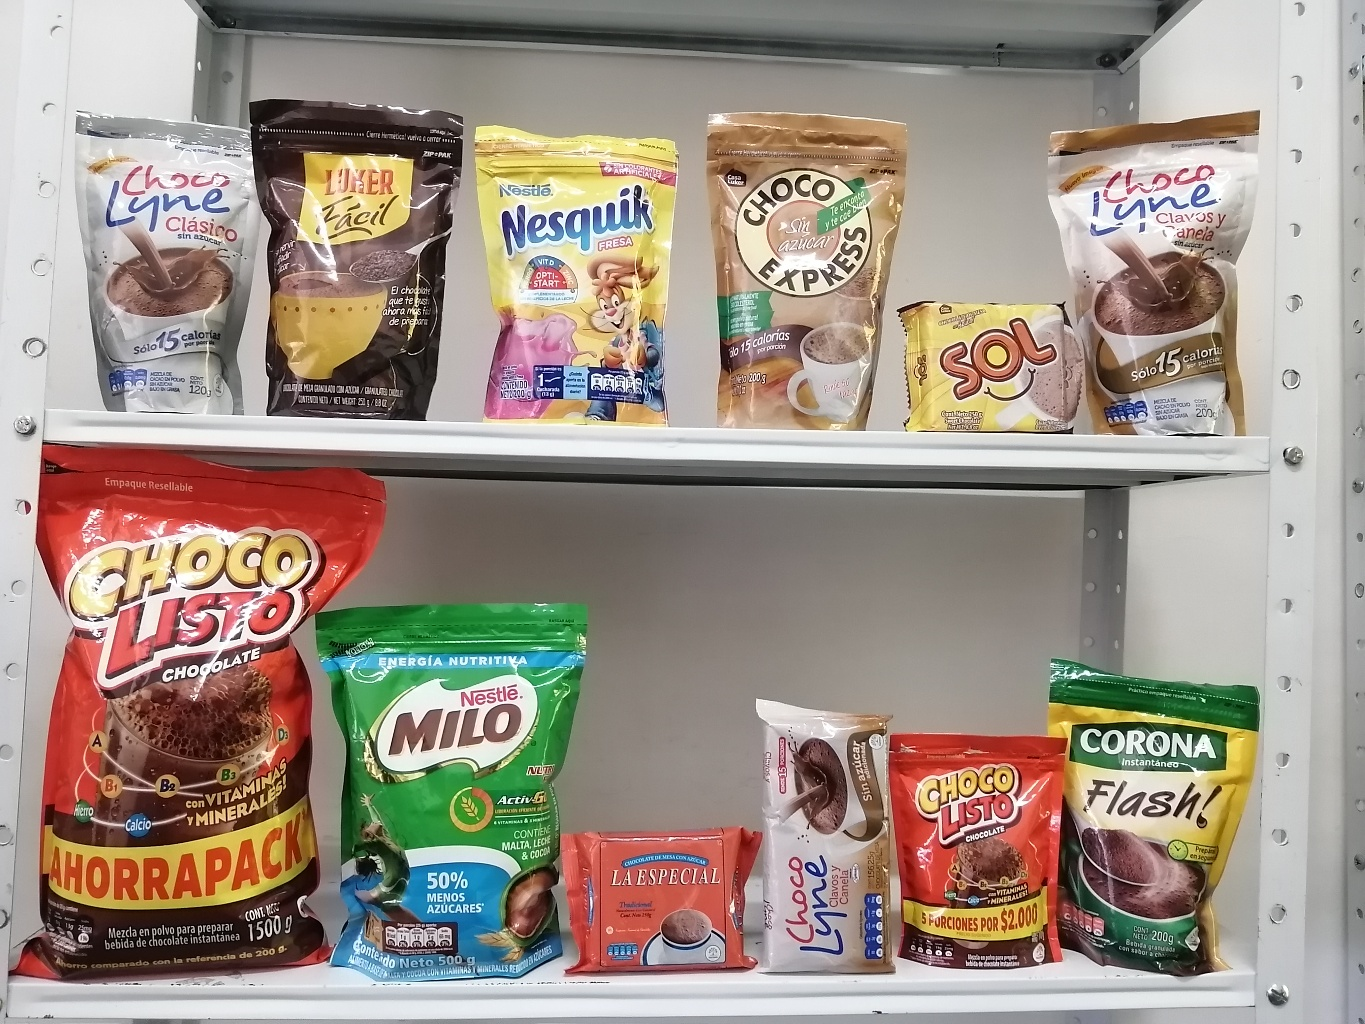COL0170103DYP1,500: (5, 423, 401, 997)
COL0170205DYP50000: (305, 592, 599, 1000)
COL0170305DYP20000: (458, 103, 689, 436)
